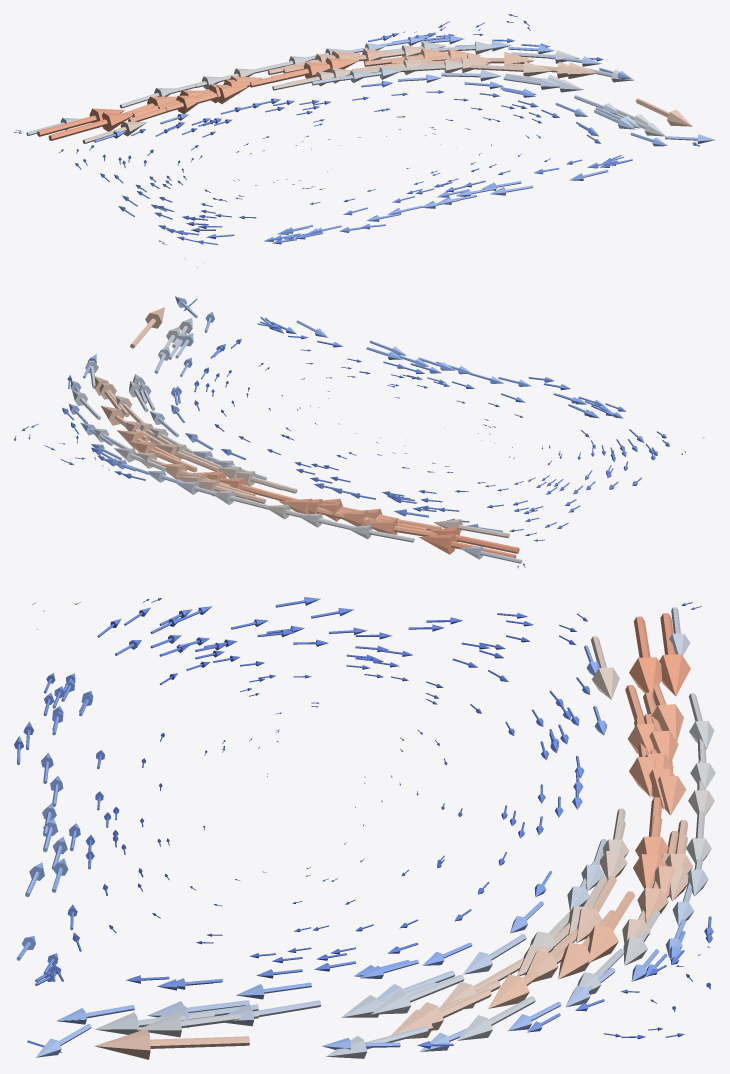
The model's file is Umag.glb.
3 renders of one model, top to bottom at view 1: azimuth 30°, elevation 25°; view 2: azimuth 150°, elevation 25°; view 3: azimuth 270°, elevation 25°, orthographic. The views are drawn at different scales.
Visible parts, largest first — view 1: Renderer Node; view 2: Renderer Node; view 3: Renderer Node.
Part boxes in pixels (x1=…): Renderer Node: x1=14, y1=14, x2=715, y2=267; Renderer Node: x1=14, y1=296, x2=704, y2=568; Renderer Node: x1=14, y1=597, x2=715, y2=1059.
Size of the model in its own units: 3.06 by 0.0966 by 1.98.
Materials: 1 (1 with a texture image).
